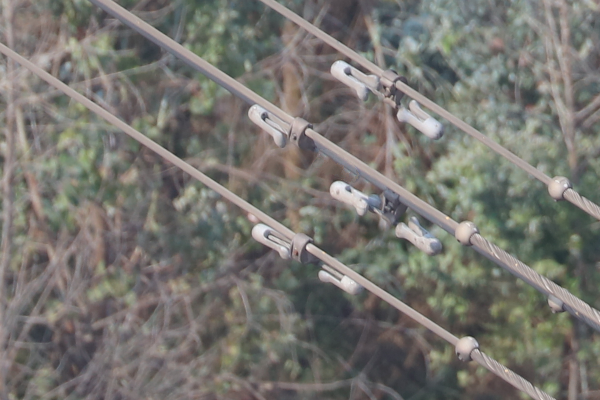damper: (328, 56, 445, 140), (327, 175, 444, 257), (249, 220, 366, 296)
damper_defect: (242, 100, 318, 155)
